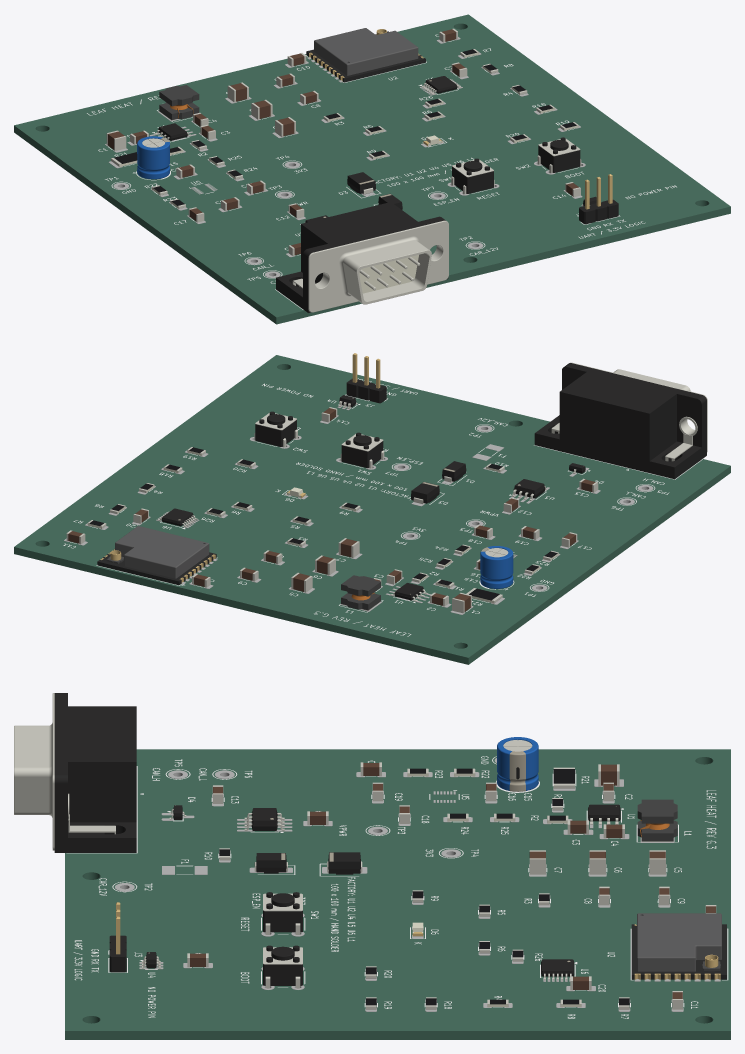
The model's file is leaf-heat-rev-g.glb.
3 views of the same model, one above another, from view 1: azimuth 30°, elevation 25°; view 2: azimuth 150°, elevation 25°; view 3: azimuth 270°, elevation 25° (orthographic). The views are drawn at different scales.
Parts seen in each view (by area): view 1: =>[0:1:1:41], =>[0:1:1:13], =>[0:1:1:7], =>[0:1:1:39], =>[0:1:1:38], =>[0:1:1:5] (×2), =>[0:1:1:15], =>[0:1:1:21], =>[0:1:1:35]; view 2: =>[0:1:1:41], =>[0:1:1:13], =>[0:1:1:7], =>[0:1:1:39], =>[0:1:1:38], =>[0:1:1:5] (×2), =>[0:1:1:15], =>[0:1:1:21], =>[0:1:1:35]; view 3: =>[0:1:1:41], =>[0:1:1:13], =>[0:1:1:7], =>[0:1:1:39], =>[0:1:1:38], =>[0:1:1:5] (×2), =>[0:1:1:15], =>[0:1:1:21], =>[0:1:1:35], =>[0:1:1:37], =>[0:1:1:17], =>[0:1:1:19] (+2 smaller).
Part boxes in pixels (bbox=[...]): =>[0:1:1:41]: bbox=[14, 14, 730, 324]; =>[0:1:1:13]: bbox=[276, 202, 448, 312]; =>[0:1:1:7]: bbox=[306, 28, 425, 82]; =>[0:1:1:39]: bbox=[87, 34, 676, 309]; =>[0:1:1:38]: bbox=[105, 37, 585, 277]; =>[0:1:1:5] (×2): bbox=[451, 137, 581, 194]; =>[0:1:1:15]: bbox=[137, 136, 169, 179]; =>[0:1:1:21]: bbox=[159, 85, 199, 120]; =>[0:1:1:35]: bbox=[579, 174, 618, 224]; =>[0:1:1:41]: bbox=[14, 355, 730, 664]; =>[0:1:1:13]: bbox=[534, 362, 707, 479]; =>[0:1:1:7]: bbox=[97, 526, 216, 584]; =>[0:1:1:39]: bbox=[63, 378, 702, 636]; =>[0:1:1:38]: bbox=[64, 403, 653, 614]; =>[0:1:1:5] (×2): bbox=[254, 411, 384, 468]; =>[0:1:1:15]: bbox=[480, 546, 513, 588]; =>[0:1:1:21]: bbox=[341, 575, 380, 610]; =>[0:1:1:35]: bbox=[346, 353, 386, 403]; =>[0:1:1:41]: bbox=[65, 749, 730, 1039]; =>[0:1:1:13]: bbox=[14, 693, 136, 852]; =>[0:1:1:7]: bbox=[631, 913, 726, 979]; =>[0:1:1:39]: bbox=[66, 756, 728, 1018]; =>[0:1:1:38]: bbox=[115, 758, 720, 1011]; =>[0:1:1:5] (×2): bbox=[263, 892, 302, 988]; =>[0:1:1:15]: bbox=[497, 737, 538, 791]; =>[0:1:1:21]: bbox=[637, 799, 677, 841]; =>[0:1:1:35]: bbox=[109, 902, 126, 972]; =>[0:1:1:37]: bbox=[244, 808, 284, 830]; =>[0:1:1:17]: bbox=[327, 852, 362, 874]; =>[0:1:1:19]: bbox=[254, 853, 287, 873].
Size of the model in its own units: 0.1 by 0.0179 by 0.1076.
